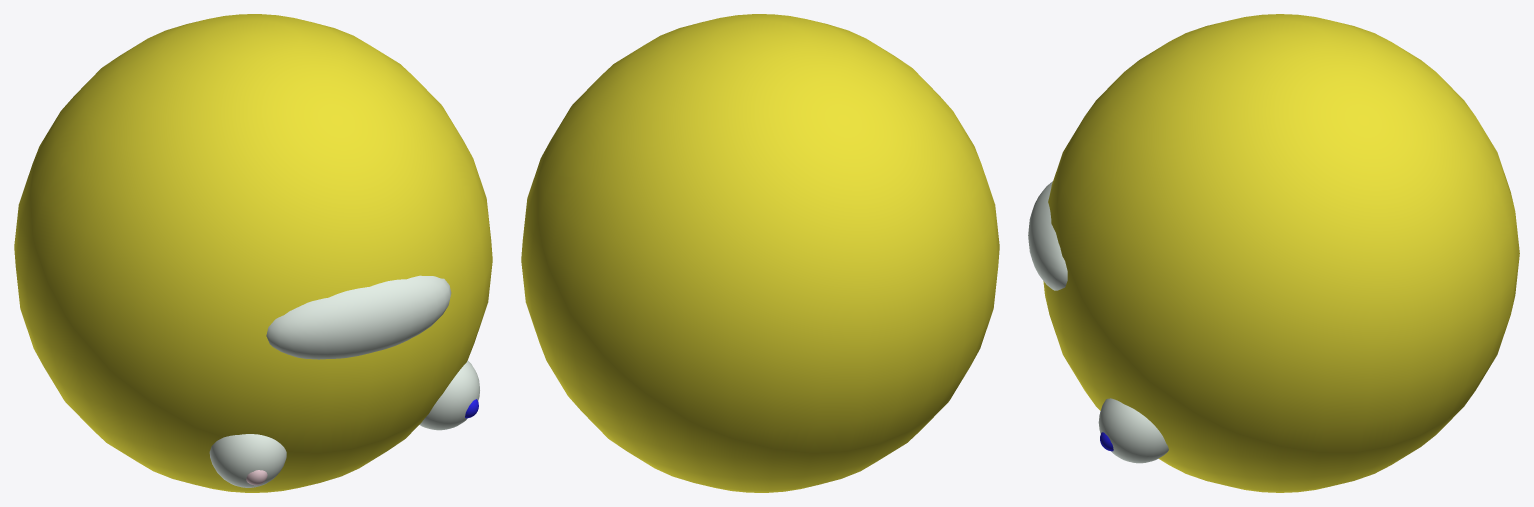
The model's file is sprite.glb.
3 renders of one model, left to right at view 1: azimuth 30°, elevation 25°; view 2: azimuth 150°, elevation 25°; view 3: azimuth 270°, elevation 25°, orthographic.
Parts seen in each view (by area): view 1: Сфера, Сфера.008, Сфера.002, Сфера.004; view 2: Сфера; view 3: Сфера, Сфера.004, Сфера.008.
Part boxes in pixels (x1,y1,x2,y2): Сфера: (14,14,492,492); Сфера.008: (266,275,451,359); Сфера.002: (209,434,286,487); Сфера.004: (419,360,479,430); Сфера: (521,14,999,492); Сфера: (1043,14,1519,492); Сфера.004: (1098,398,1168,463); Сфера.008: (1028,181,1067,290).
Bounding box in the file's own units: 2 × 2 × 2.05.
